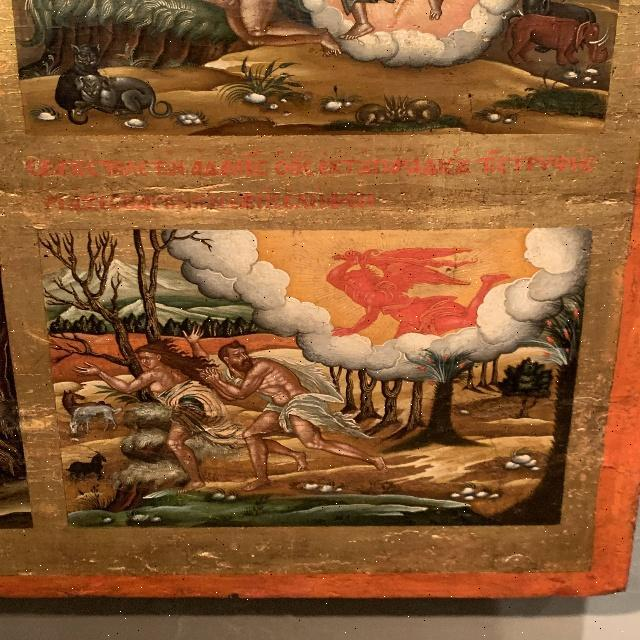adam: (206, 333, 364, 485)
angel: (309, 237, 514, 343)
cloud: (170, 229, 566, 367)
eve: (84, 330, 217, 481)
wing: (384, 260, 476, 299), (361, 243, 481, 259)
